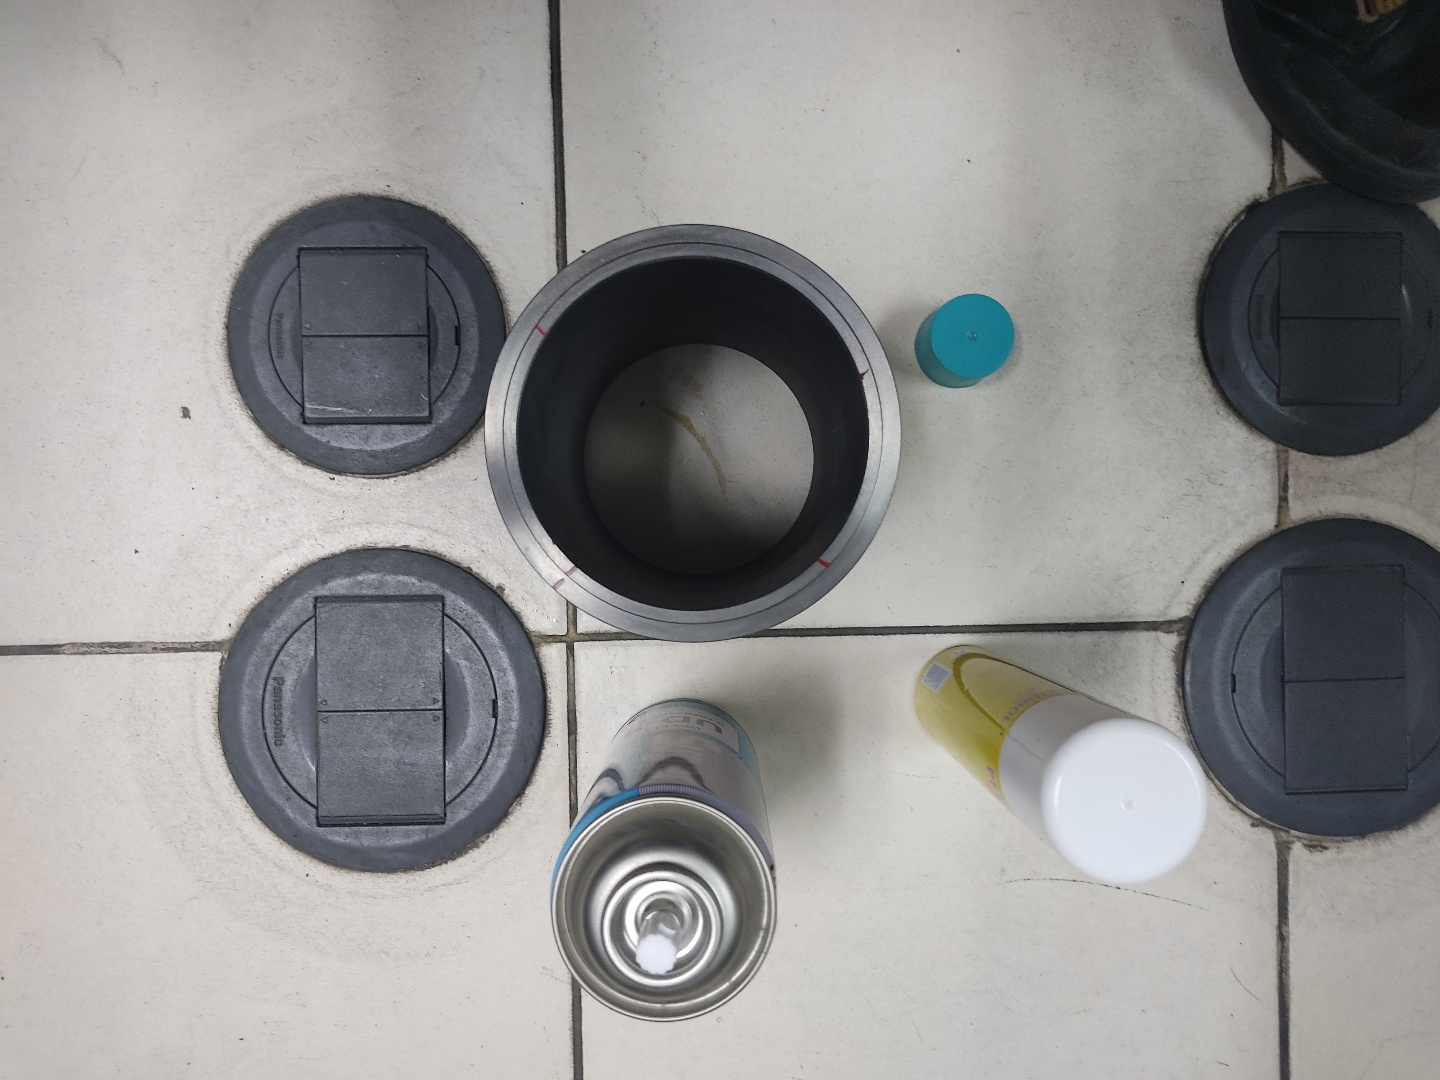cylinder: (476, 216, 910, 649)
